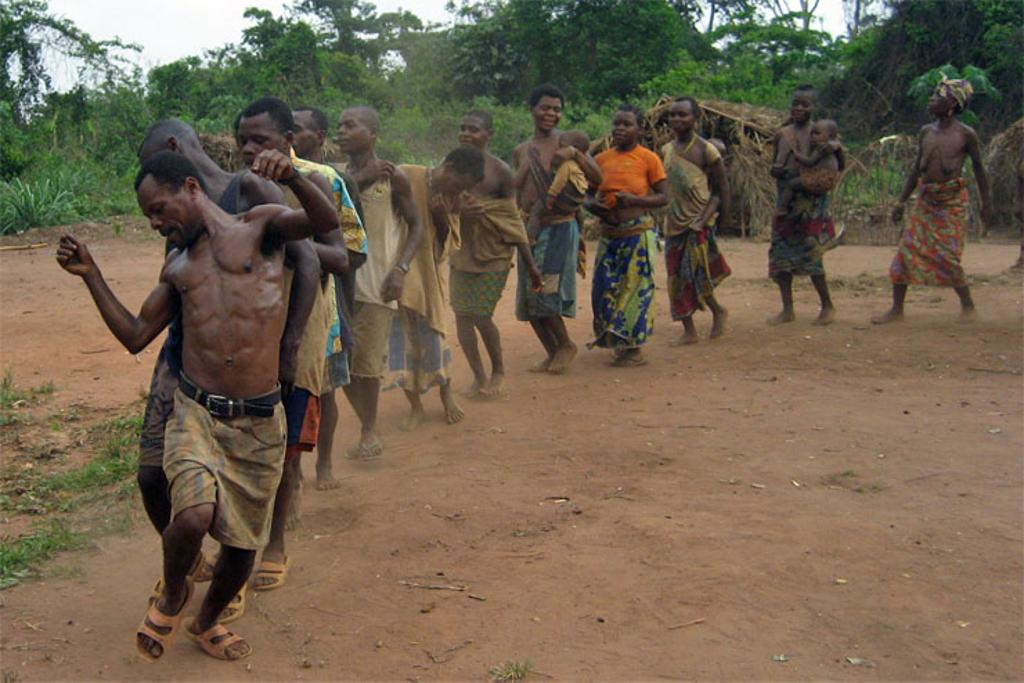face: (136, 178, 199, 247), (238, 119, 284, 178), (283, 110, 316, 155), (336, 110, 368, 152), (459, 118, 487, 154), (534, 96, 562, 129), (439, 169, 473, 193), (611, 112, 636, 144), (670, 103, 693, 132), (791, 94, 813, 123), (926, 86, 948, 113), (810, 121, 828, 147), (557, 138, 572, 161)
